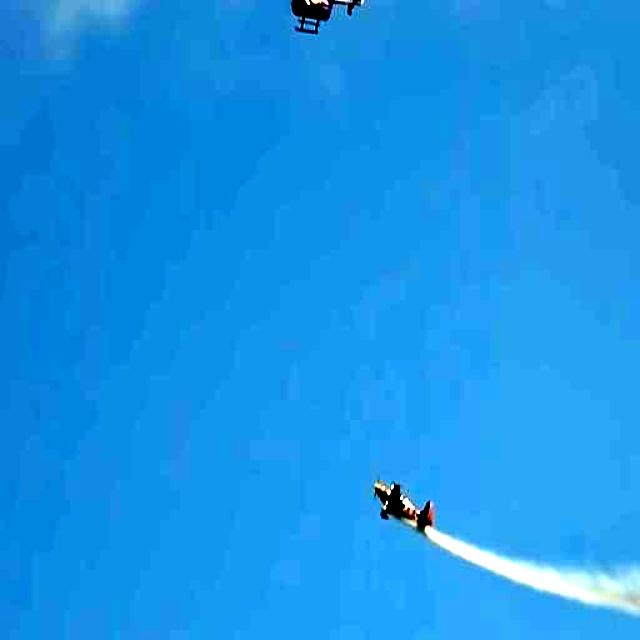drone: (275, 0, 380, 40)
